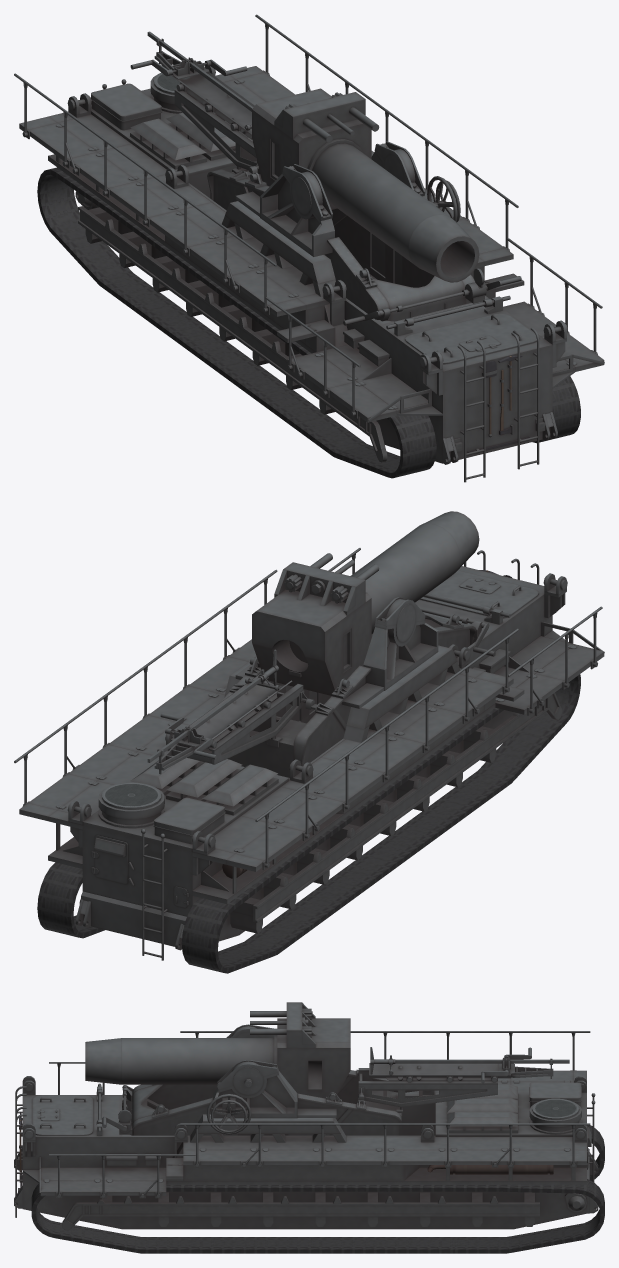
The model's file is Karl.fbx.
3 renders of one model, top to bottom at view 1: azimuth 30°, elevation 25°; view 2: azimuth 150°, elevation 25°; view 3: azimuth 270°, elevation 25°, orthographic. The views are drawn at different scales.
Visible parts, largest first — view 1: Karl_Body, Karl_Mount, Karl_ScrollTrack_R, Karl_Barrel, Karl_ScrollTrack_L; view 2: Karl_Body, Karl_Mount, Karl_Barrel, Karl_ScrollTrack_R, Karl_ScrollTrack_L; view 3: Karl_Body, Karl_Mount, Karl_Barrel, Karl_ScrollTrack_L, Karl_ScrollTrack_R.
Part boxes in pixels (x1,y1,x2,y2): Karl_Body: (14, 14, 604, 482); Karl_Mount: (130, 31, 521, 325); Karl_ScrollTrack_R: (37, 167, 436, 478); Karl_Barrel: (252, 88, 479, 282); Karl_ScrollTrack_L: (532, 376, 580, 443); Karl_Body: (14, 548, 604, 960); Karl_Mount: (147, 597, 495, 777); Karl_Barrel: (252, 511, 479, 695); Karl_ScrollTrack_R: (181, 674, 580, 973); Karl_ScrollTrack_L: (37, 862, 104, 938); Karl_Body: (14, 1031, 598, 1230); Karl_Mount: (102, 1024, 569, 1135); Karl_Barrel: (85, 1002, 350, 1098); Karl_ScrollTrack_L: (31, 1179, 604, 1253); Karl_ScrollTrack_R: (587, 1125, 604, 1181).
Size of what is drawn, in the model's own units: 424 by 429 by 1130.
